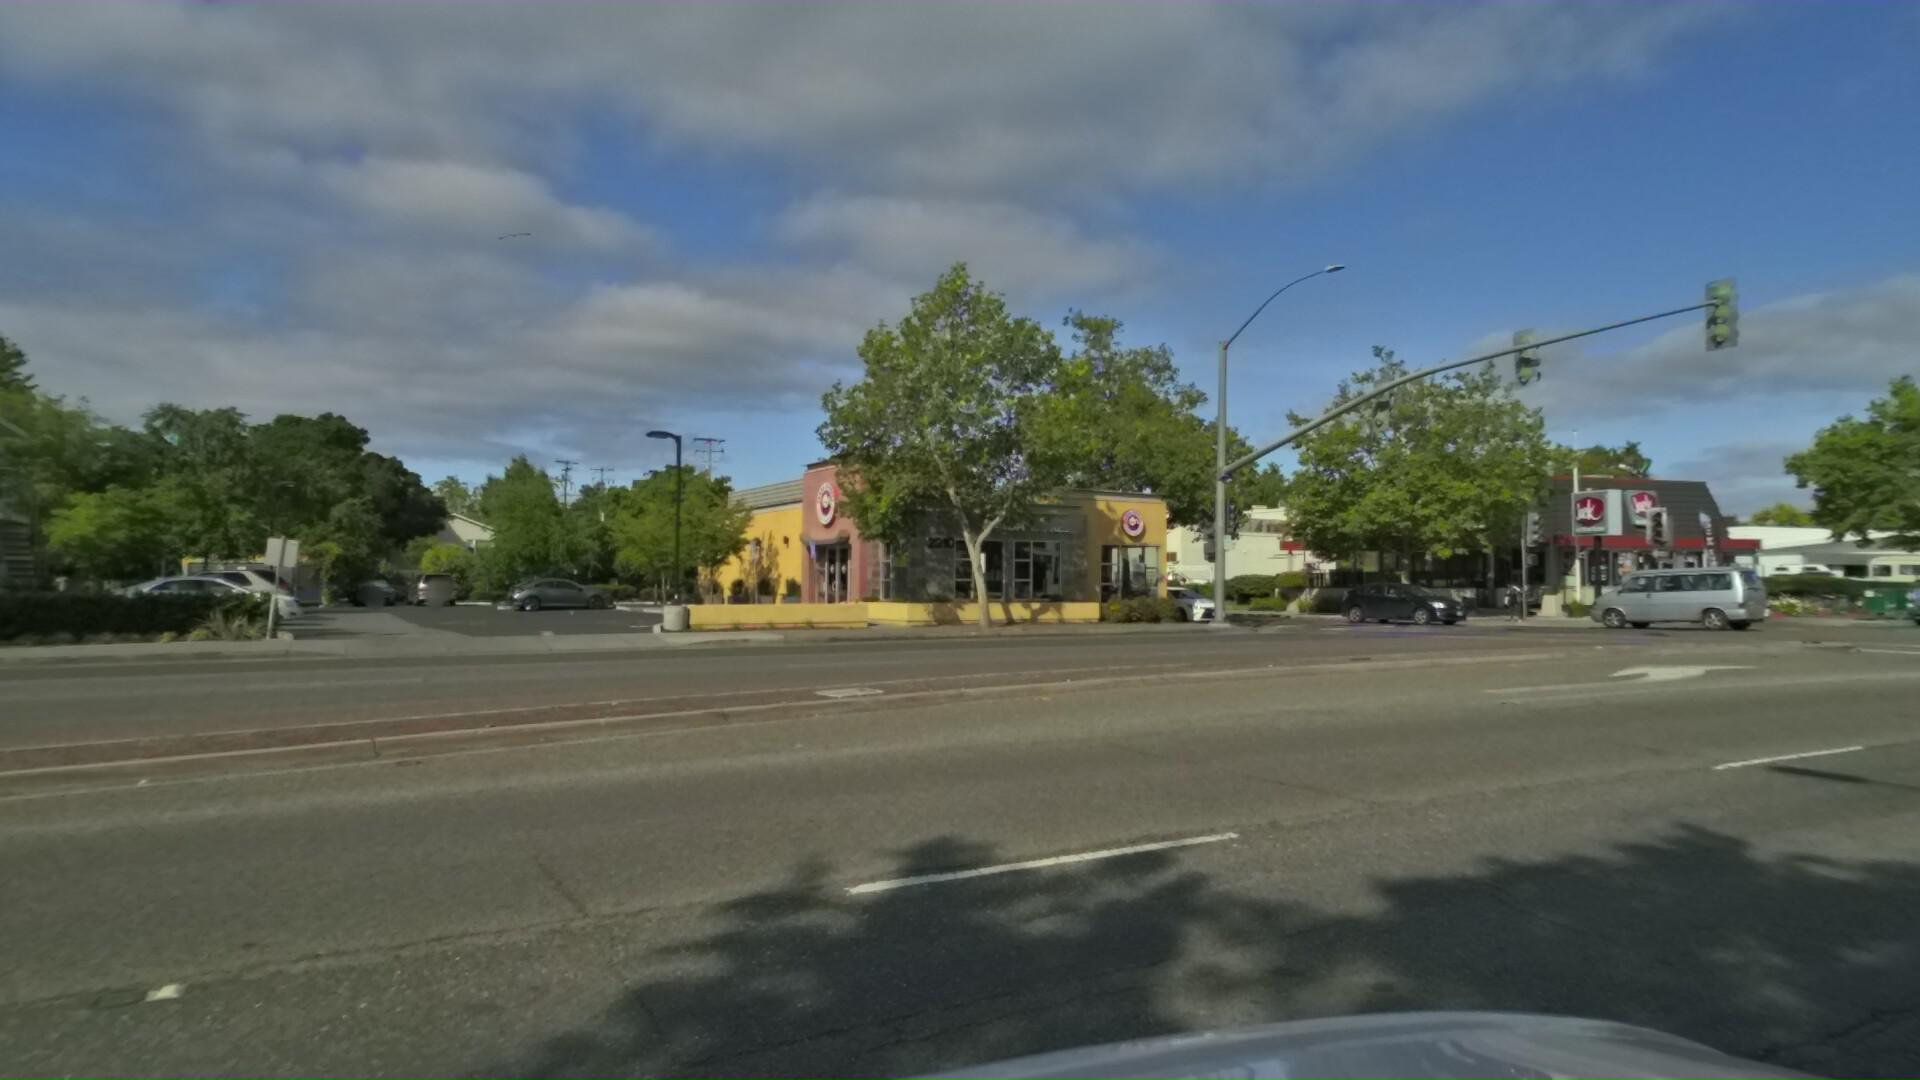car: (1564, 564, 1753, 632), (1324, 580, 1466, 629), (1106, 583, 1225, 626), (1753, 559, 1826, 585), (1883, 580, 1920, 632)
other_vehicle: (1838, 551, 1920, 596)
